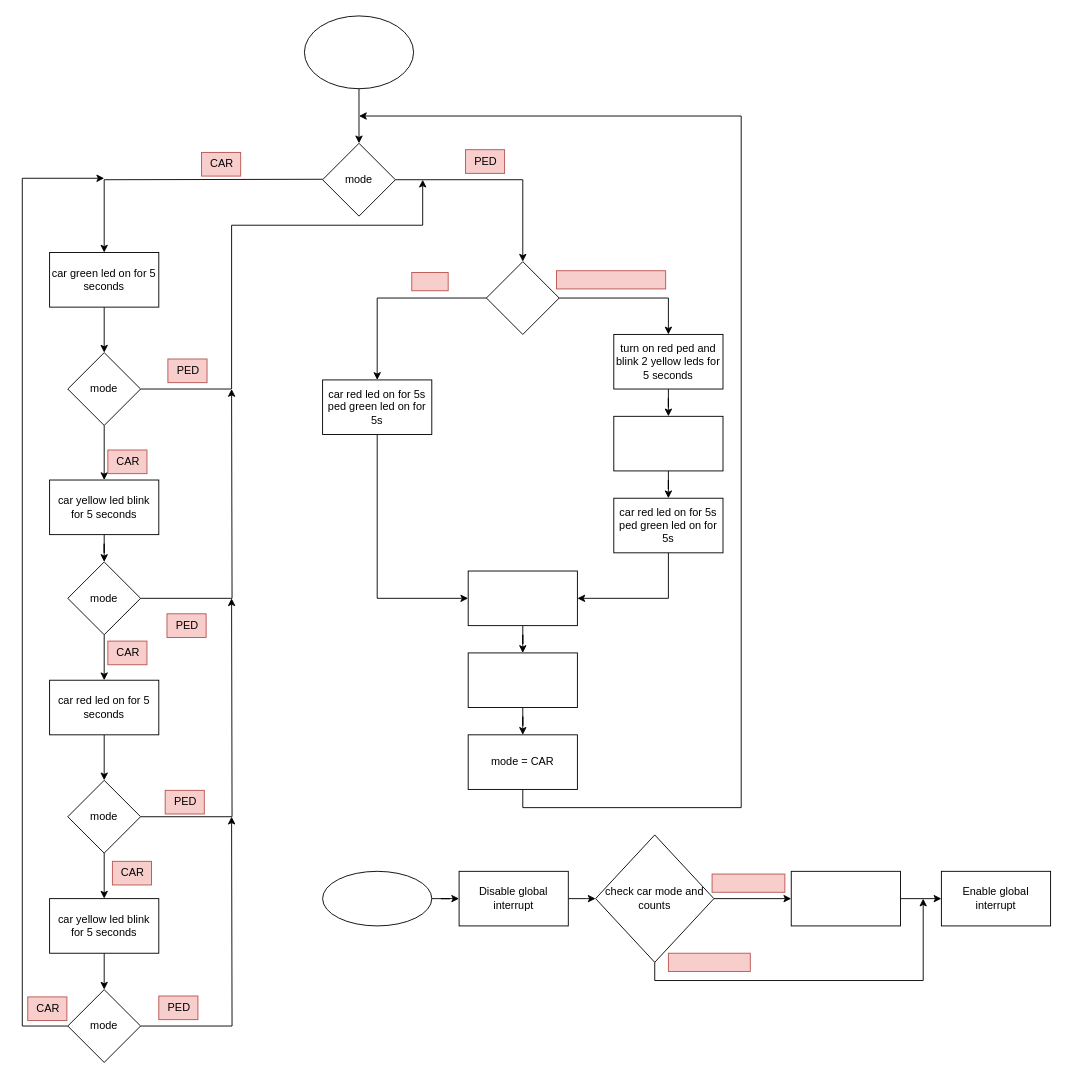
Image size: 1067x1078. Some labels were removed from this diagram. The centre of each missing label's shape, as x and y in pixels:
APP Initialization: the point at 358,52
Car_state: the point at 522,297
GREEN || YELLOW: the point at 611,279
Interrupt occured: the point at 377,898
mode= PED: the point at 845,898
OFF || >1000: the point at 708,961
ON & <1000: the point at 748,882
RED: the point at 429,281
turn green ped off and red ped on: the point at 522,680
turn off red car and blink the 2 yellow leds for 5 seconds: the point at 522,598
turn off red ped and green car leds: the point at 668,443
